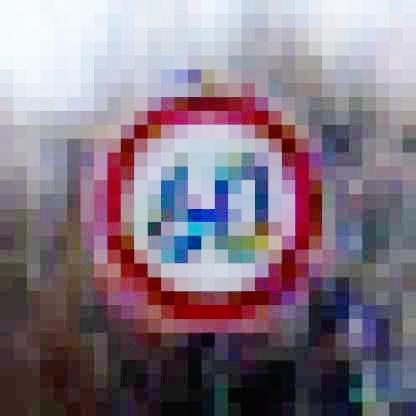Speed Limit -60-: (81, 88, 327, 333)
